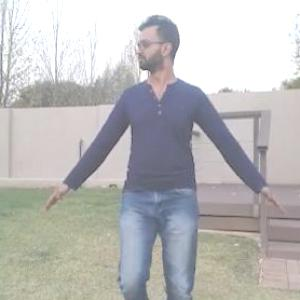land: (43, 5, 293, 299)
